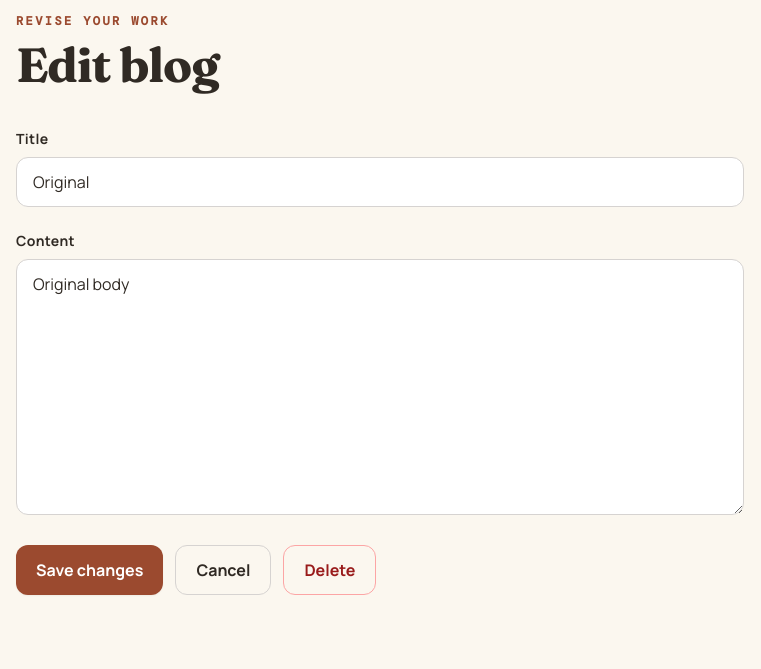
Test: writing and editing › shows an inline delete error and preserves posts when deletion cannot write storage
This screenshot has width=761, height=669.
Click the button "Delete" at (330,570), box top-left (283, 545), bottom-right (376, 595)
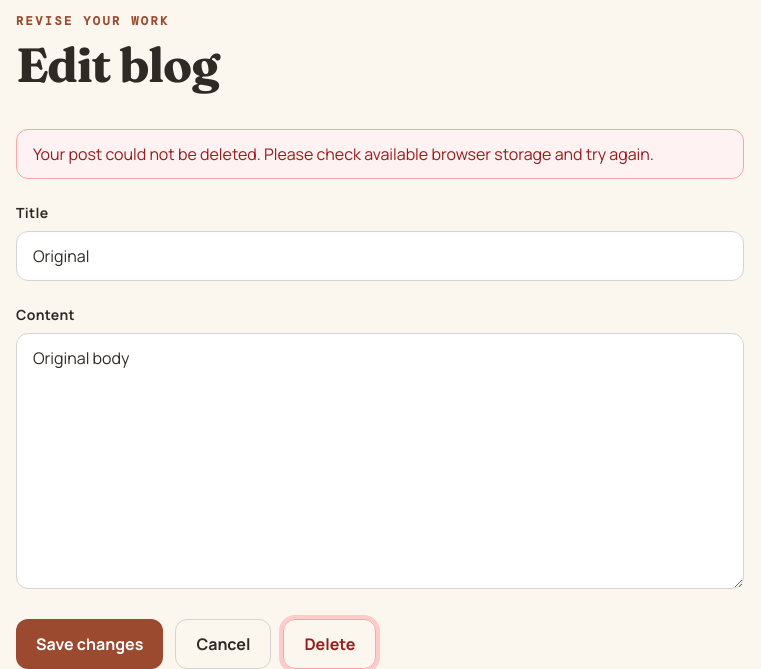
Expected: the heading "Edit blog" is shown, top-left (16, 35), bottom-right (218, 94)
Result: the message shows "Your post could not be deleted. Please check available browser storage and try again." at top-left (33, 143), bottom-right (654, 165)
